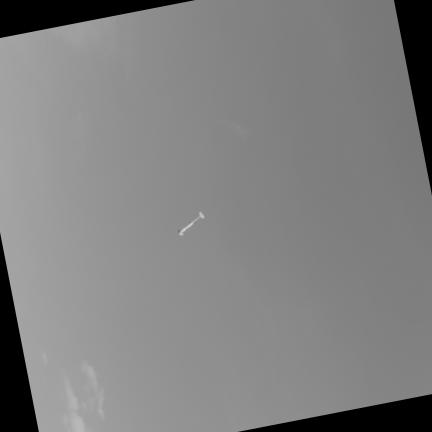Shahed: (177, 212, 203, 235)
